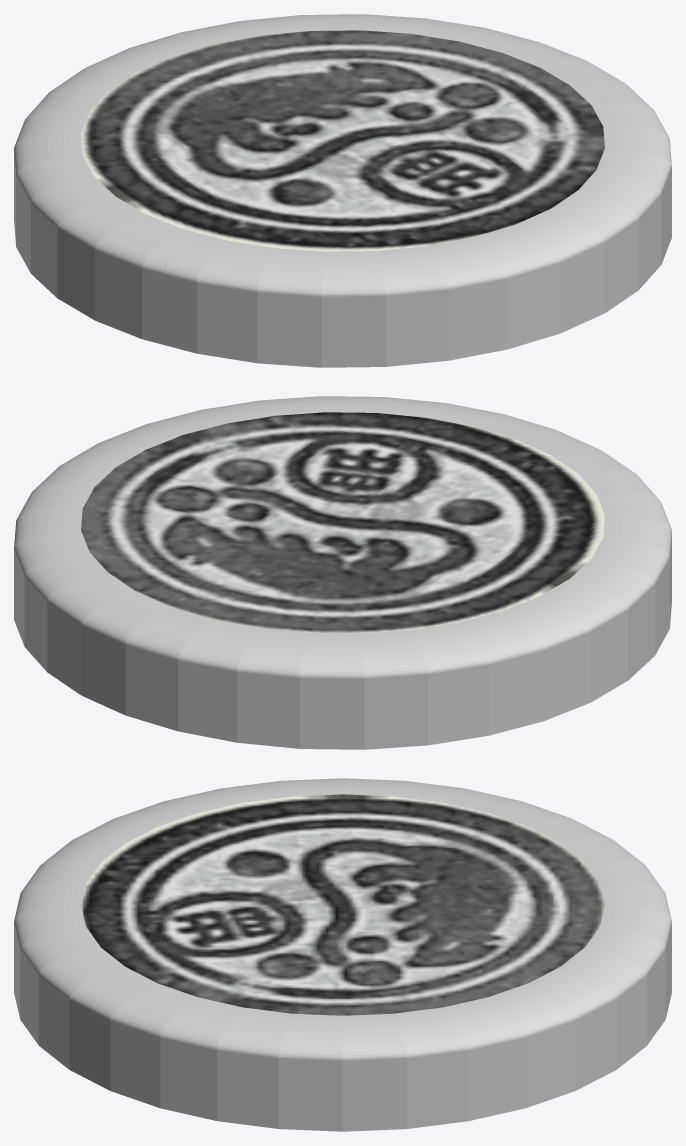
The model's file is Black Rat.fbx.
3 views of the same model, one above another, from view 1: azimuth 30°, elevation 25°; view 2: azimuth 150°, elevation 25°; view 3: azimuth 270°, elevation 25° (orthographic).
Parts seen in each view (by area): view 1: Cylinder; view 2: Cylinder; view 3: Cylinder.
Part boxes in pixels (x1,y1,x2,y2): Cylinder: (14, 14, 671, 367); Cylinder: (14, 396, 671, 749); Cylinder: (14, 778, 671, 1131).
Size of the model in its own units: 151 by 22.19 by 151.
Materials: 2 (1 with a texture image).
